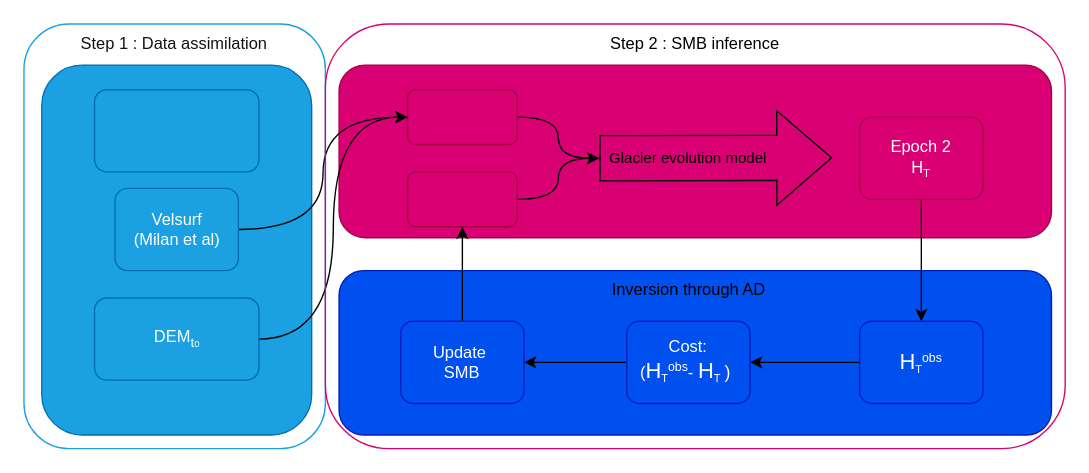
Some shapes in this 1089 by 473 pixel diagram are drawn without their labels. The shapes that lost their labels are listed below. From the top down, each one's centre as x and y in pixels, then its label:
point (176, 130): Static in time t 0
point (461, 116): Epoch 1 H t 0
point (461, 199): SMB
